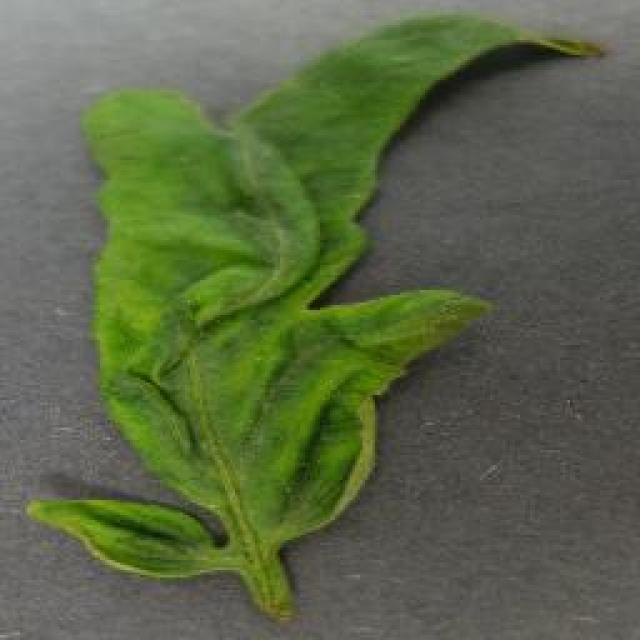Tom_Yellow_Leaf_Curl_Virus: (114, 76, 424, 490)
